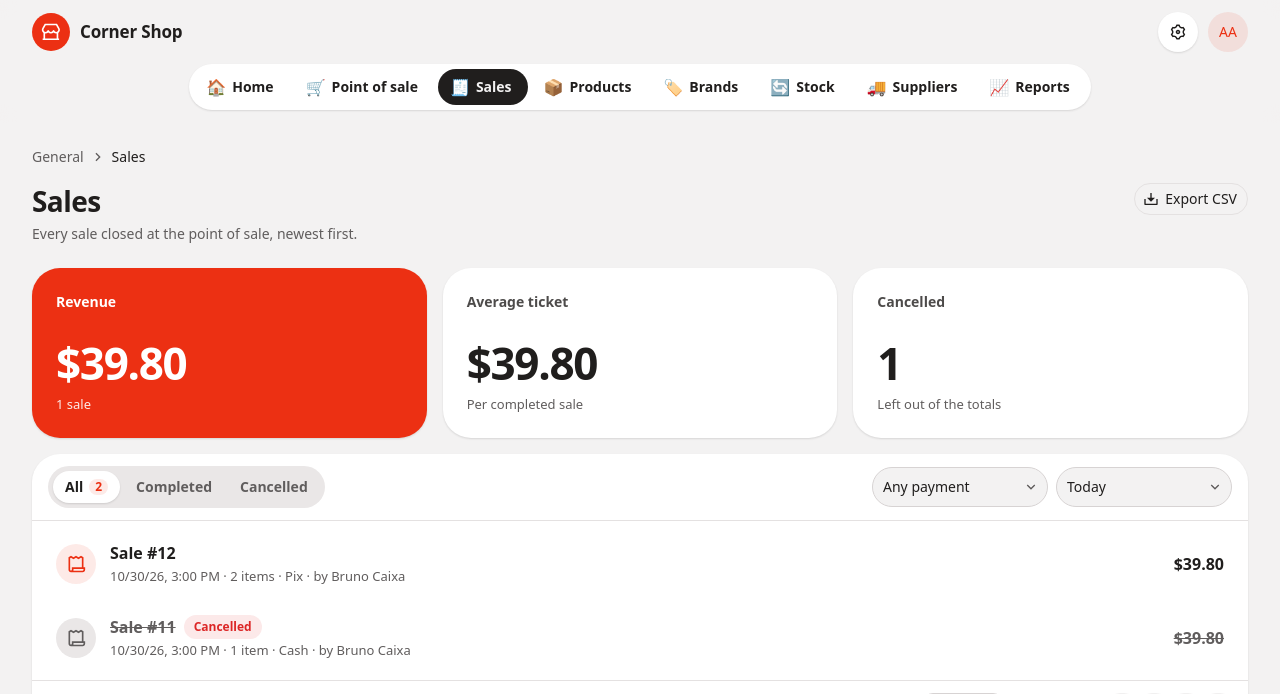
Test: SalesPage › lets a manager cancel a sale with a reason
Click the button with aria-label "Open sale #12": (76, 564) [44,529,1236,599]
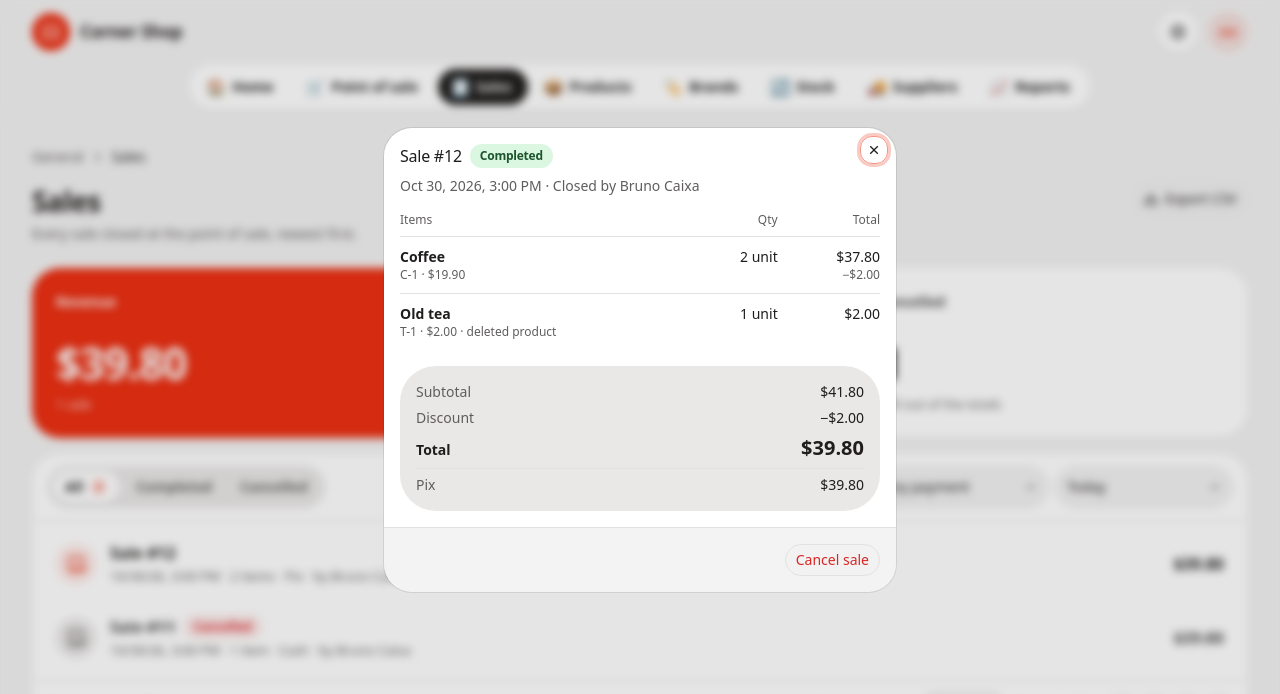
Click the button "Cancel sale": (832, 560) [785,544,880,576]
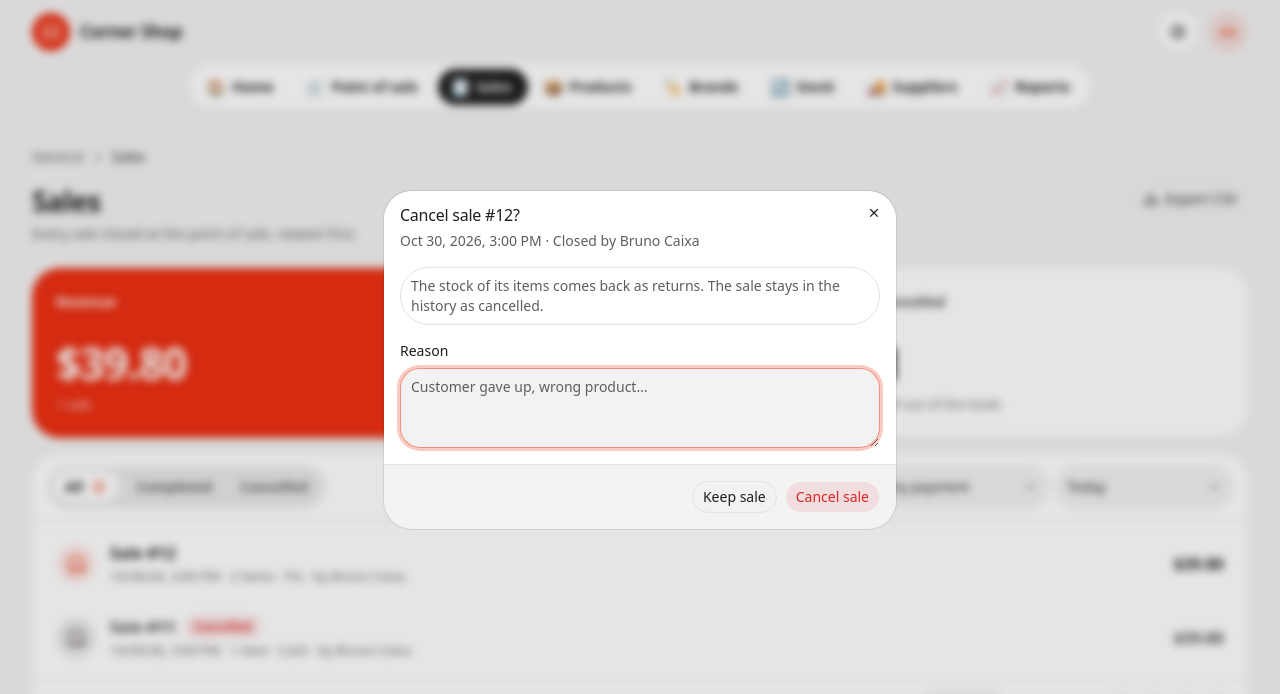
Click the button "Cancel sale": (832, 497) [785,481,880,513]
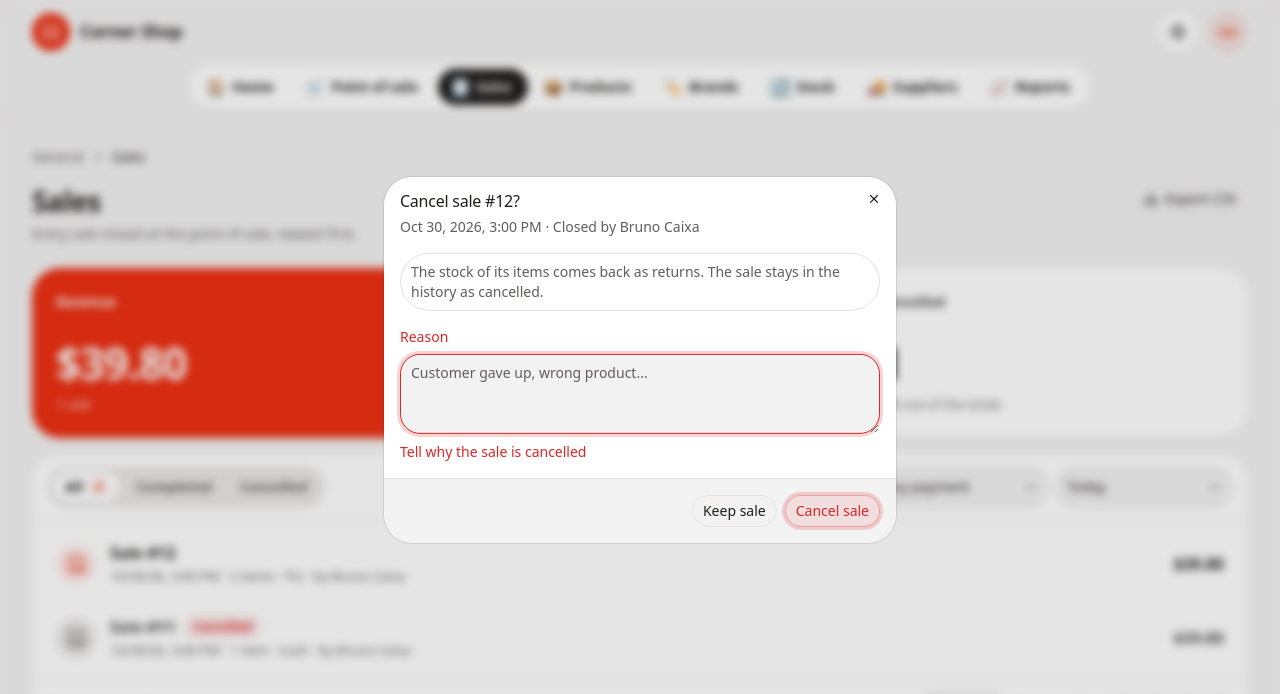
Expected: the text "Tell why the sale is cancelled" is shown, [400,442,586,461]
In the text box labelled "Reason": (640, 394) [400,354,880,434], type "Gave up"
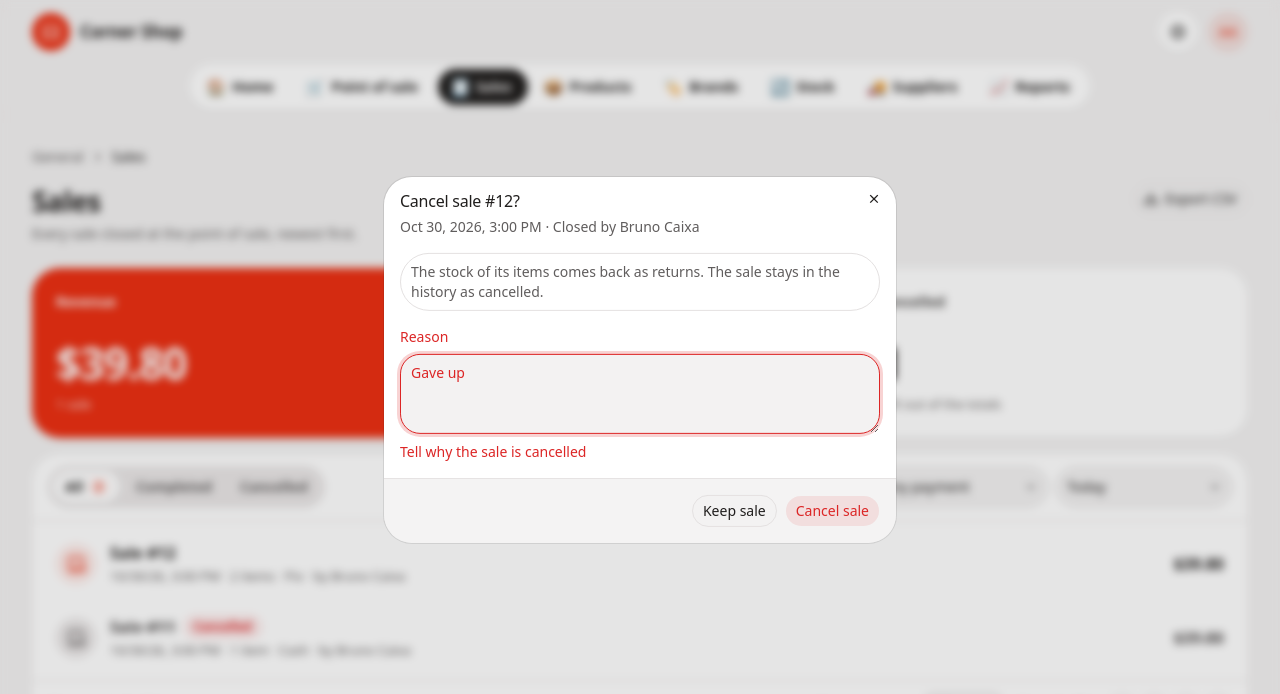
Click the button "Cancel sale": (832, 511) [785,495,880,527]
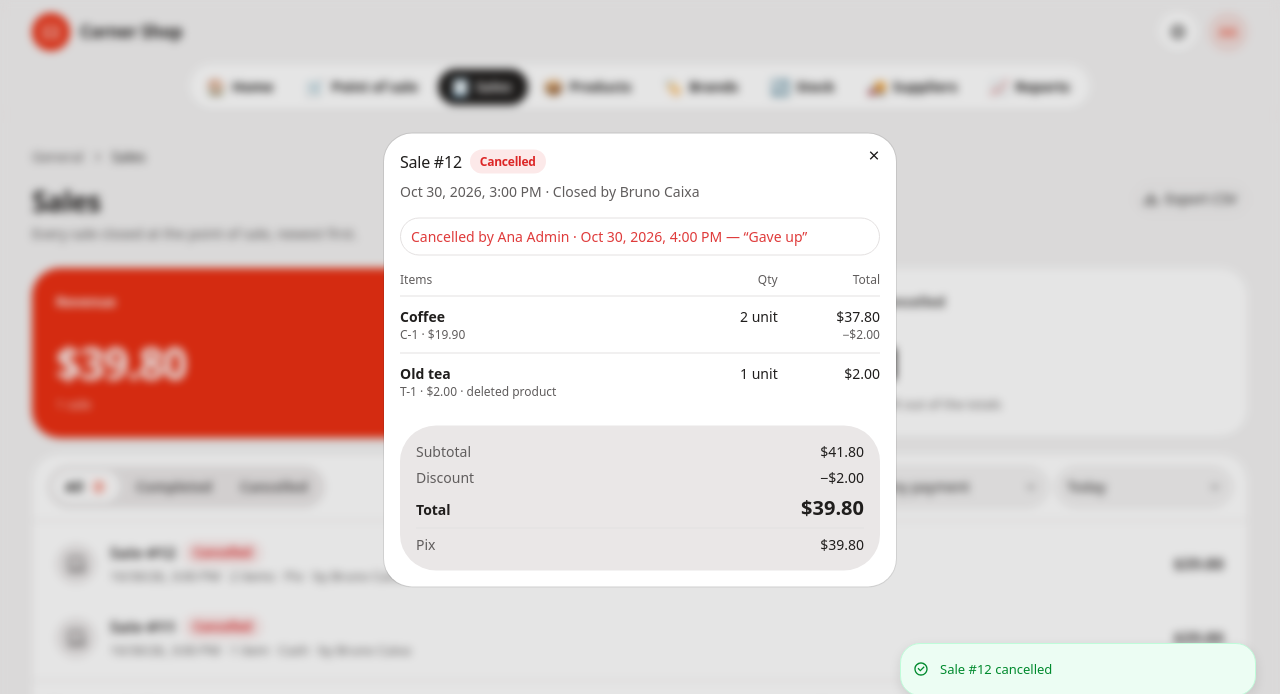
Expected: the text "Sale #12 cancelled" is shown, [940,660,1052,679]
Expected: the text "Cancelled by Ana Admin · Oct 30, 2026, 4:00 PM — “Gave up”" is shown, [411,226,869,246]
